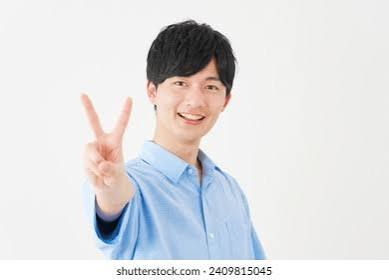peace_sign: (77, 91, 136, 197)
